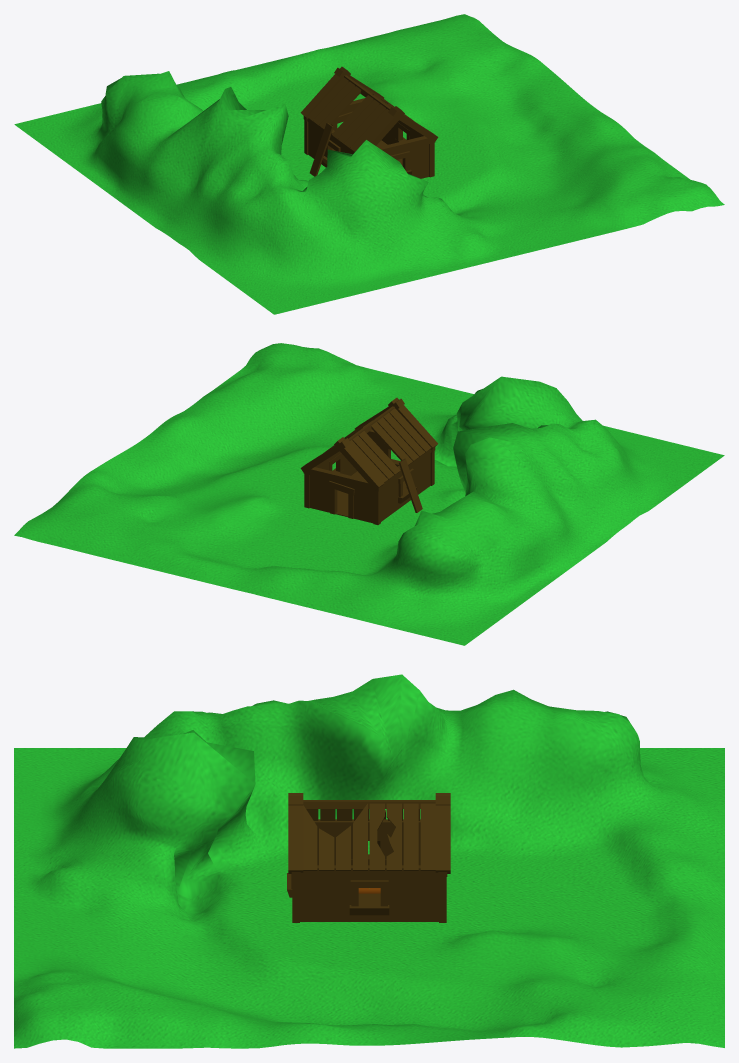
Rendered from Pool2.fbx.
3 renders of one model, top to bottom at view 1: azimuth 30°, elevation 25°; view 2: azimuth 150°, elevation 25°; view 3: azimuth 270°, elevation 25°, orthographic. The views are drawn at different scales.
Visible parts, largest first — view 1: Plane, House; view 2: Plane, House; view 3: Plane, House.
Part boxes in pixels (box(x1,y1,x2,y2)): Plane: box(14, 14, 724, 314); House: box(300, 66, 438, 178); Plane: box(14, 343, 724, 645); House: box(300, 397, 437, 524); Plane: box(14, 674, 724, 1048); House: box(287, 793, 450, 922).
Size of the model in its own units: 37.84 by 9.8 by 37.84.
21 materials, 17 textured.
